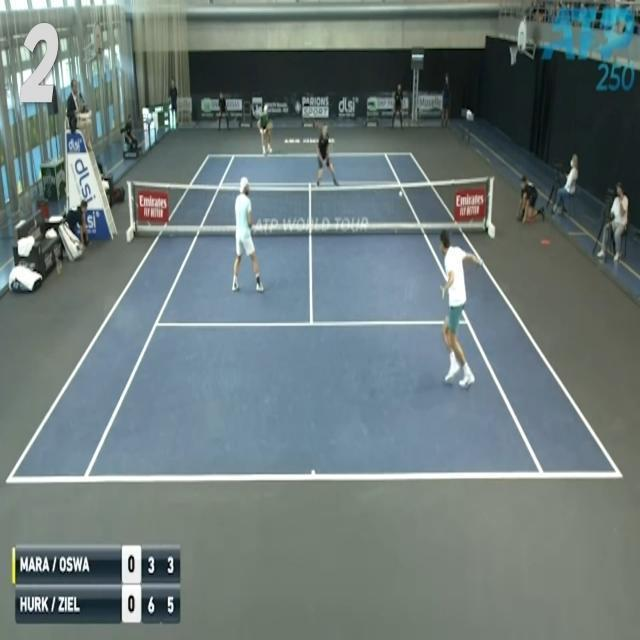court: (6, 152, 624, 484)
net: (128, 178, 494, 232)
player: (440, 228, 483, 394), (231, 176, 264, 293)
